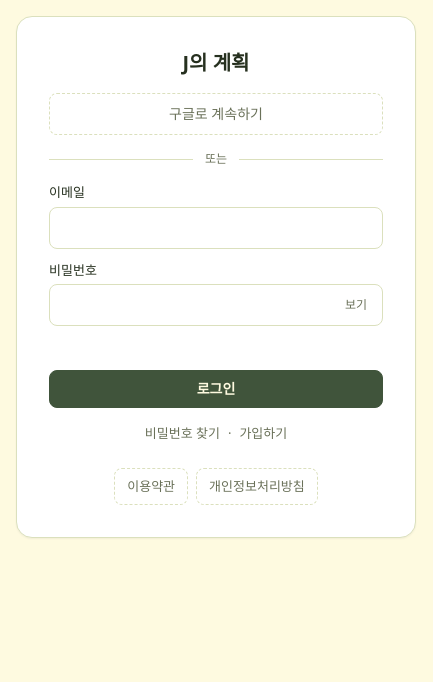
Scenario: 로그인 화면 /login (US-34, D-072) › 점선 자리 "개인정보처리방침"는 눌러도 오류 없이 "준비 중이에요" (D-008 방식)
Click the button "개인정보처리방침": (257,486) [196, 468, 318, 505]
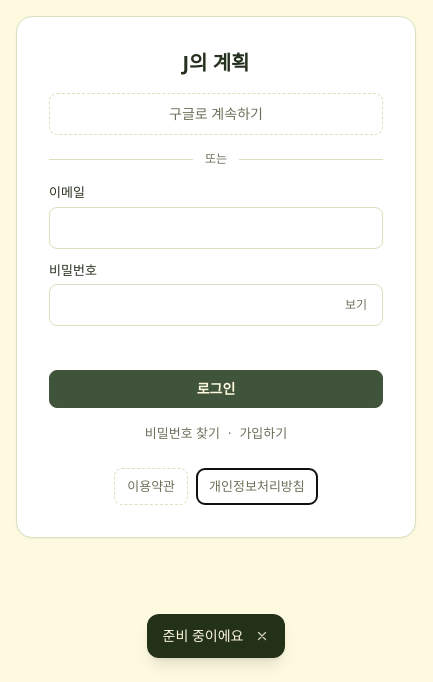
Check: the message reads "준비 중이에요", box [162, 626, 243, 645]
